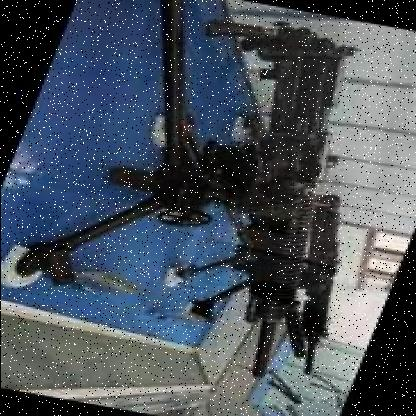rifle: (147, 26, 395, 384)
